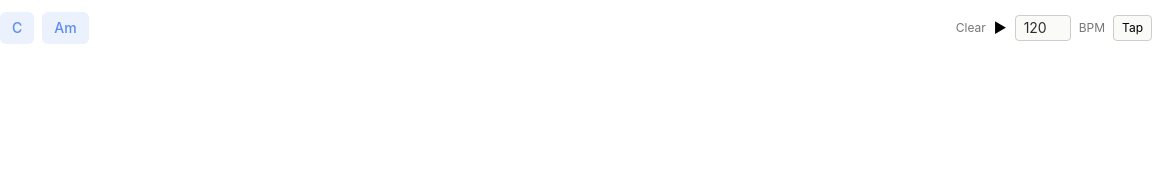
Test: ProgressionBar › Play button shows stop icon and label when playing
Click the button named "Play progression" at point(1000, 28), box [994, 18, 1007, 38]
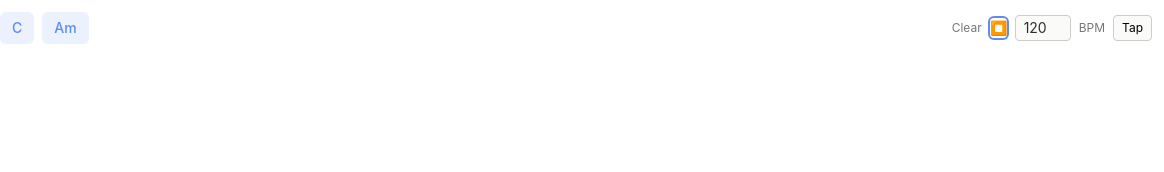
Result: the button named "Stop playback" is shown at [990, 18, 1007, 38]
